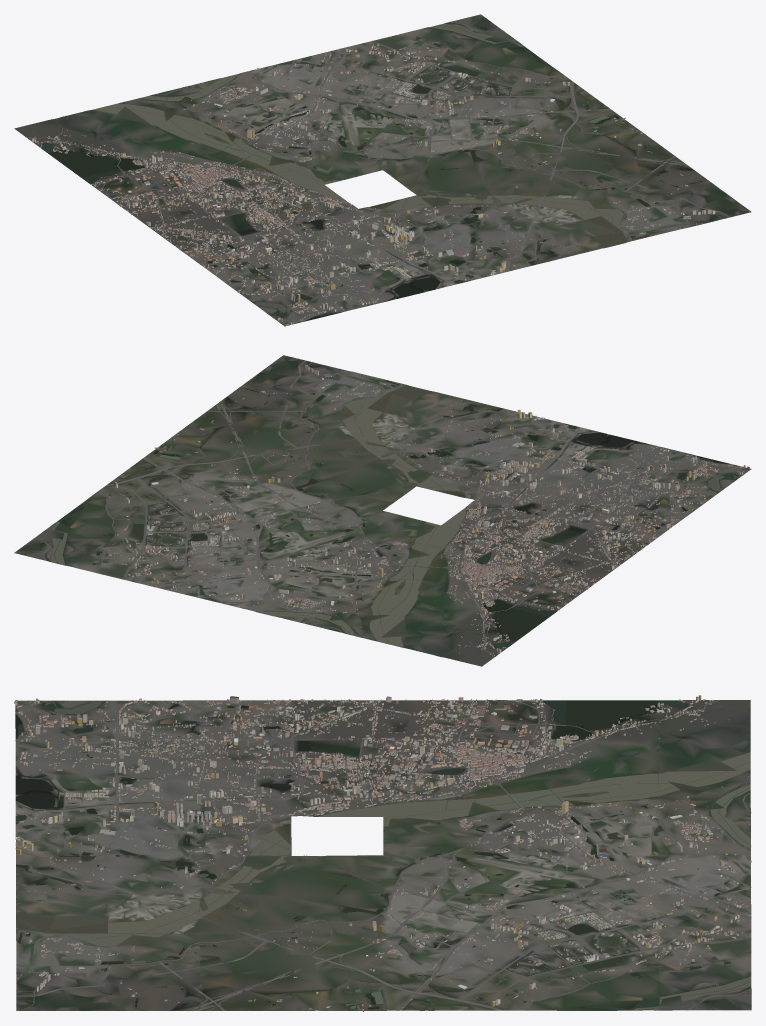
The picture shows the model from 3 angles, top to bottom: view 1: azimuth 30°, elevation 25°; view 2: azimuth 150°, elevation 25°; view 3: azimuth 270°, elevation 25°; orthographic projection. The views are drawn at different scales.
Parts seen in each view (by area): view 1: ground, buildings, water, roads; view 2: ground, buildings, water, roads; view 3: ground, buildings, water, roads.
Boxes of the visible parts, x1,y1,x2,y2 form: ground: (14, 14, 751, 325); buildings: (29, 21, 715, 325); water: (28, 23, 716, 323); roads: (25, 21, 747, 326); ground: (14, 355, 750, 666); buildings: (42, 364, 749, 655); water: (38, 363, 738, 656); roads: (37, 356, 751, 658); ground: (15, 700, 751, 1010); buildings: (14, 695, 751, 1011); water: (15, 700, 751, 1010); roads: (15, 700, 751, 1010).
Bounding box in the file's own units: 11263 × 172 × 11259.
